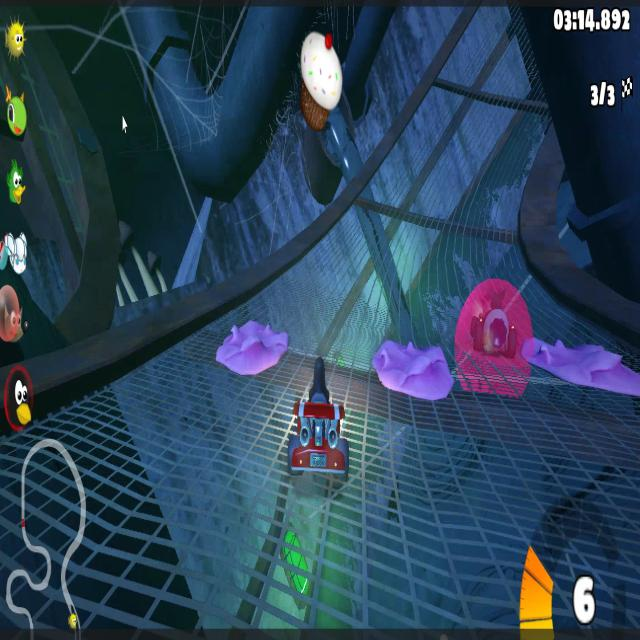obstacle: (522, 333, 638, 401), (213, 304, 290, 380), (367, 341, 453, 403)
off_track: (118, 120, 353, 202)
track: (381, 128, 516, 274)
